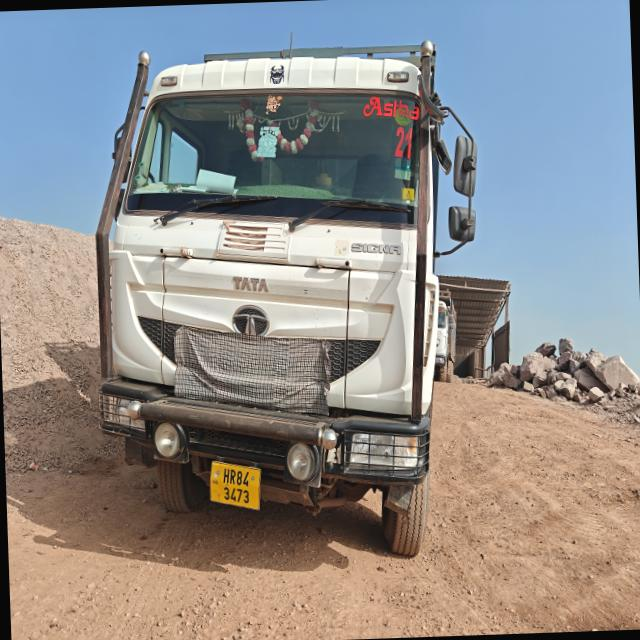license_plate: (210, 462, 260, 510)
